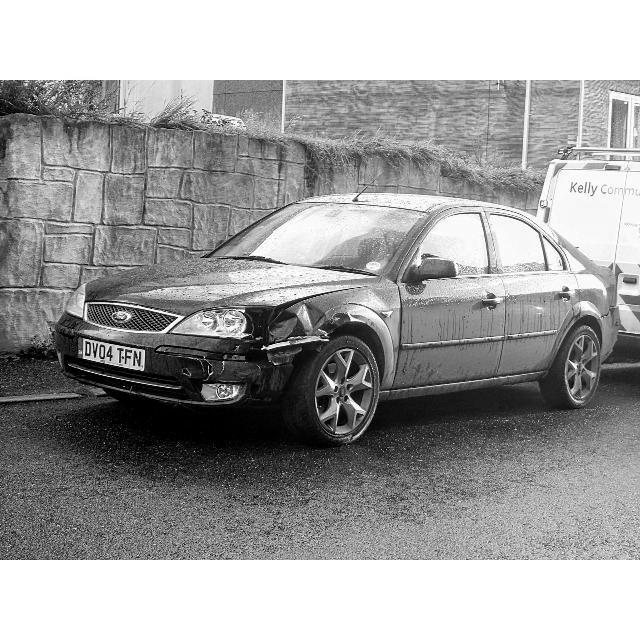Headlight-damage: (183, 301, 289, 354)
fender-dent: (257, 275, 401, 357)
